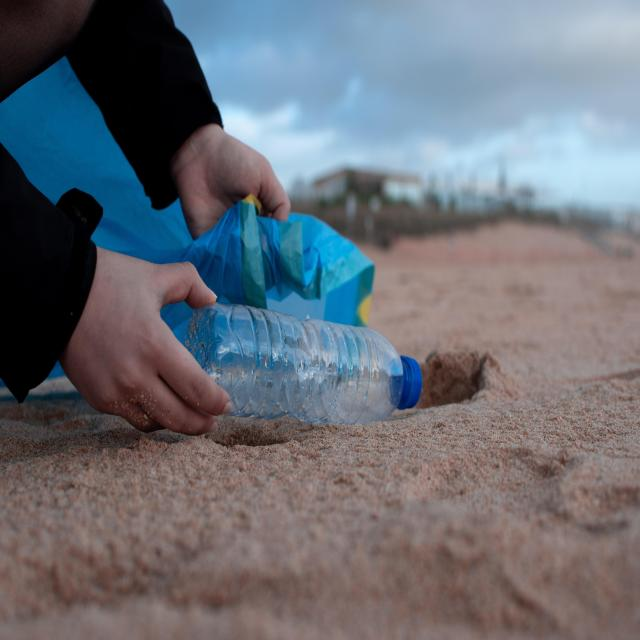plastic: (176, 296, 425, 432)
